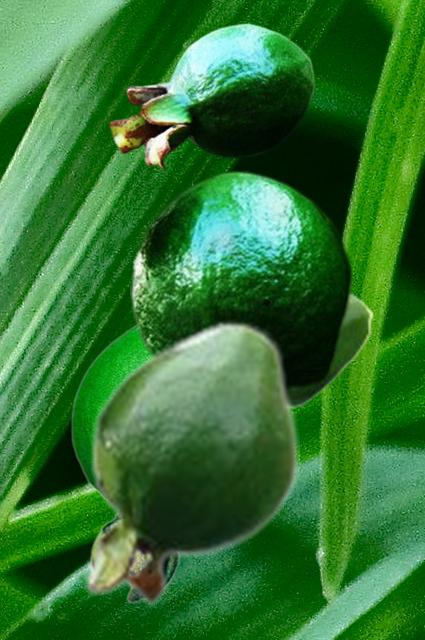guava: (84, 319, 298, 607), (130, 169, 353, 395), (70, 325, 182, 602), (108, 22, 314, 169), (292, 290, 373, 412)
